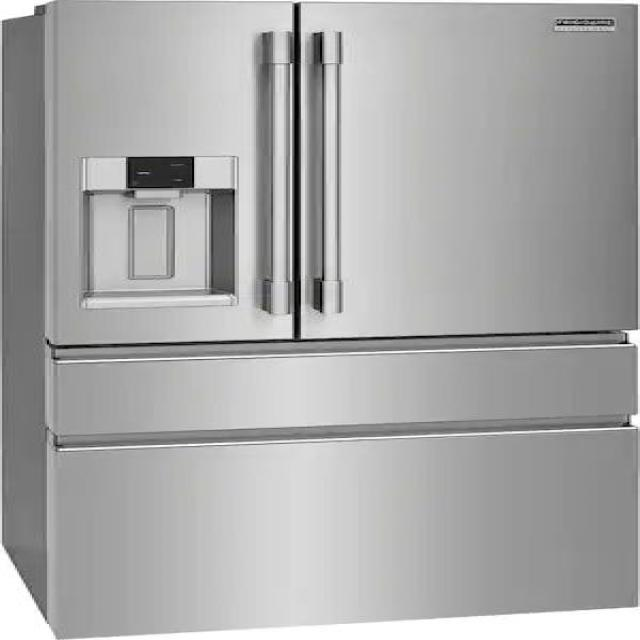obstacle: (0, 0, 638, 638)
